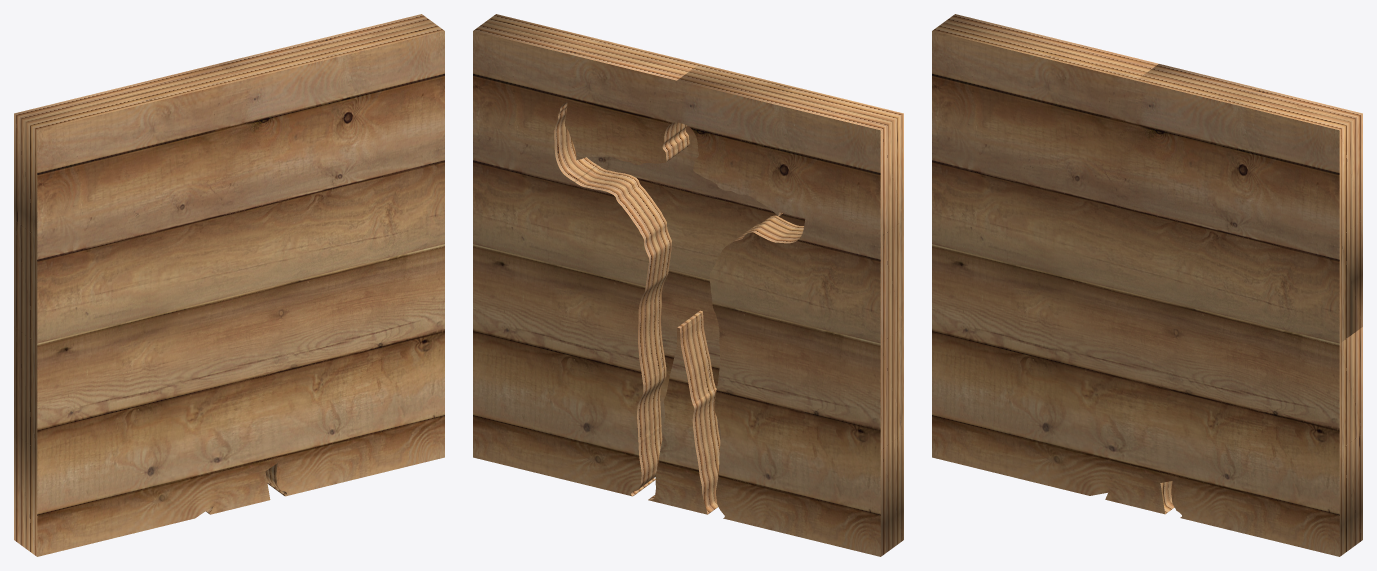
File: double bicept flex.FBX
The picture shows the model from 3 angles, left to right: view 1: azimuth 30°, elevation 25°; view 2: azimuth 150°, elevation 25°; view 3: azimuth 330°, elevation 25°; orthographic projection.
Parts seen in each view (by area): view 1: Plane002; view 2: Plane002; view 3: Plane002.
Boxes of the visible parts, box(x1,y1,x2,y2) form: Plane002: box(14, 14, 444, 556); Plane002: box(473, 14, 903, 556); Plane002: box(932, 14, 1362, 556).
Bounding box in the file's own units: 2 × 2 × 0.196.
1 material, 1 textured.
